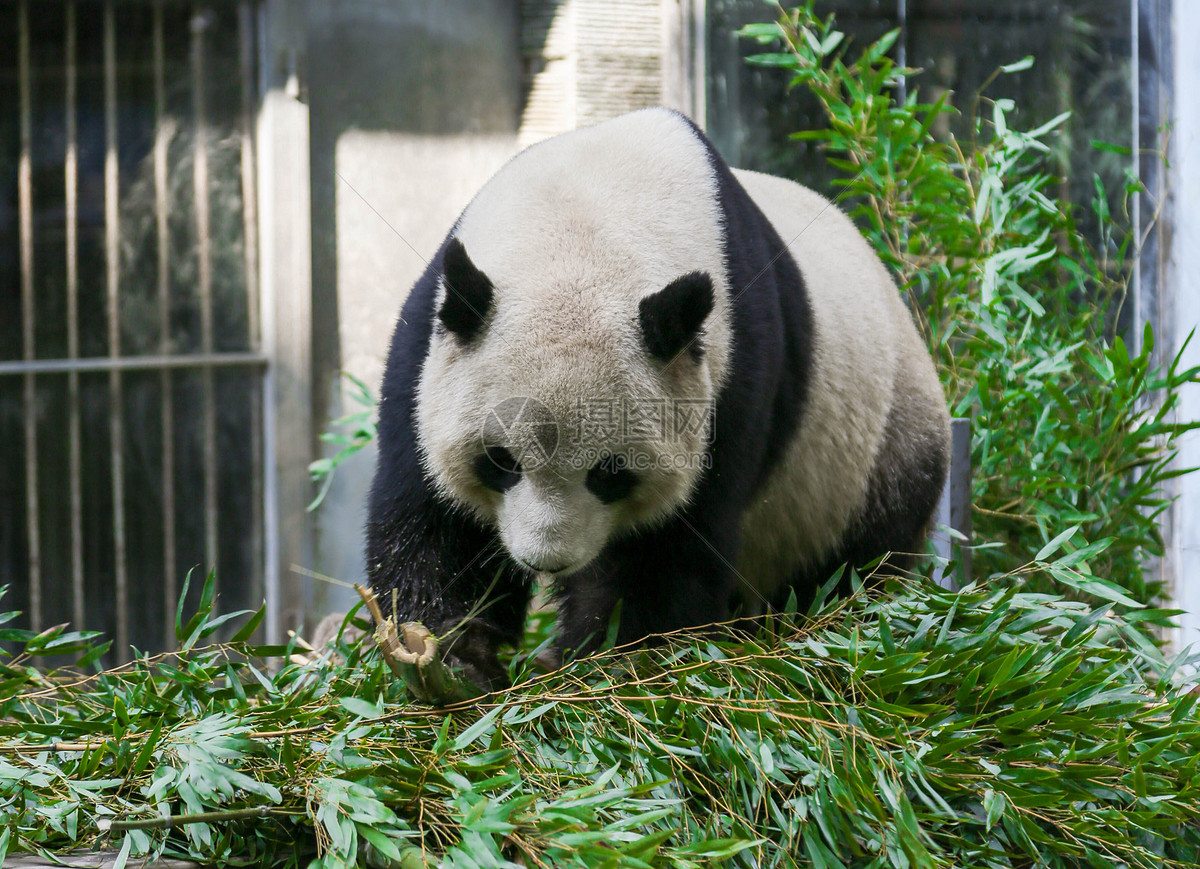panda: (362, 105, 958, 679)
